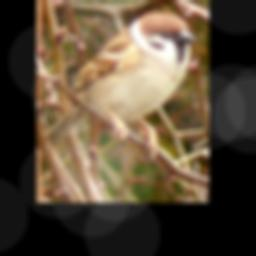Sparrow: (44, 12, 199, 162)
